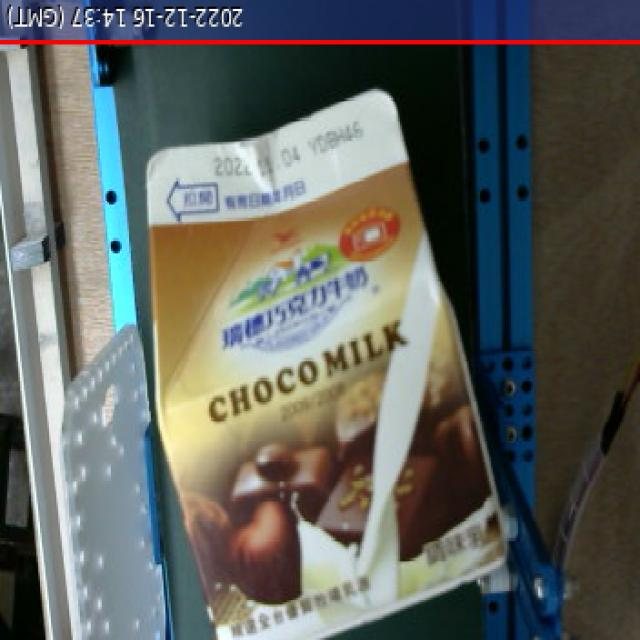non_white_jug: (142, 74, 527, 640)
